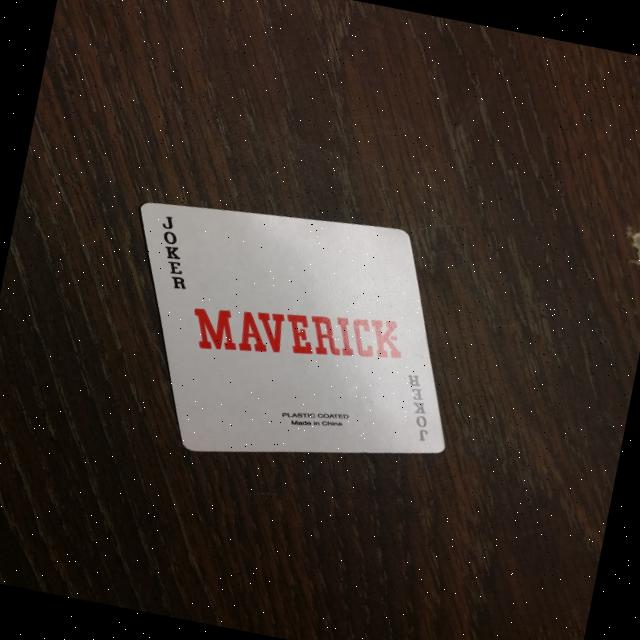J: (140, 212, 203, 294), (388, 369, 448, 450)
